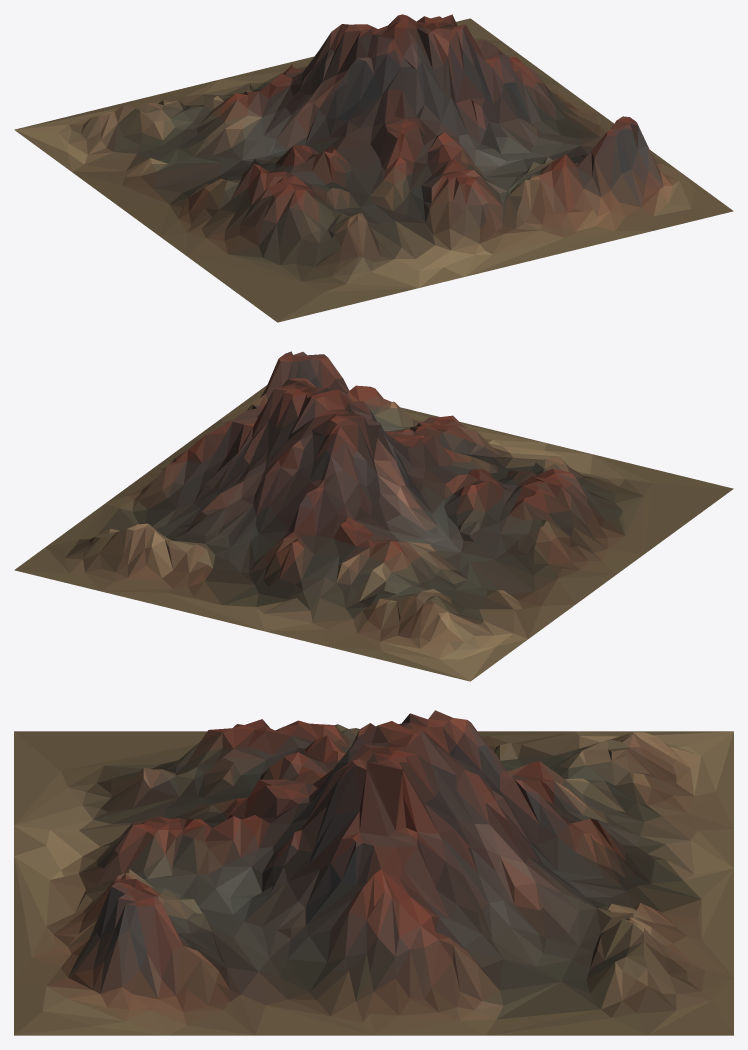
File: Dry-Rocky_E.fbx
The picture shows the model from 3 angles, top to bottom: view 1: azimuth 30°, elevation 25°; view 2: azimuth 150°, elevation 25°; view 3: azimuth 270°, elevation 25°; orthographic projection. The views are drawn at different scales.
Visible parts, largest first — view 1: Dry-Rocky_E; view 2: Dry-Rocky_E; view 3: Dry-Rocky_E.
Boxes of the visible parts, bbox=[...] form: Dry-Rocky_E: bbox=[14, 14, 733, 322]; Dry-Rocky_E: bbox=[14, 351, 733, 681]; Dry-Rocky_E: bbox=[14, 710, 733, 1035].
Bounding box in the file's own units: 10000 × 2773 × 10000.
